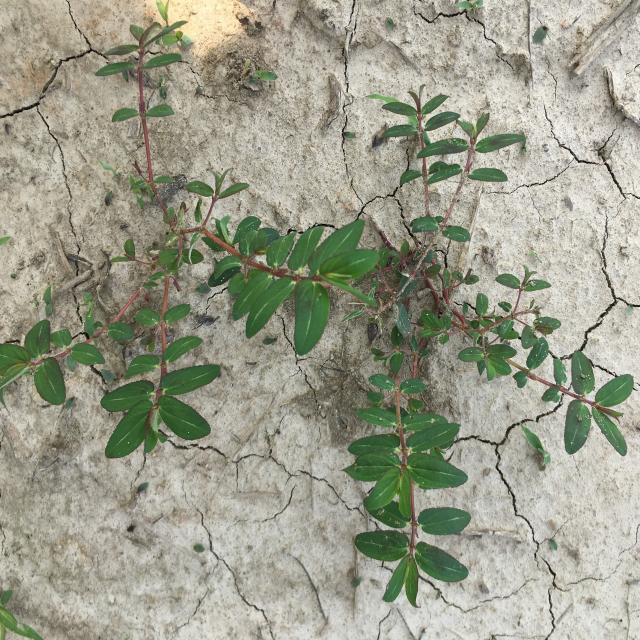SpottedSpurge: (1, 1, 380, 459), (340, 83, 634, 608)
